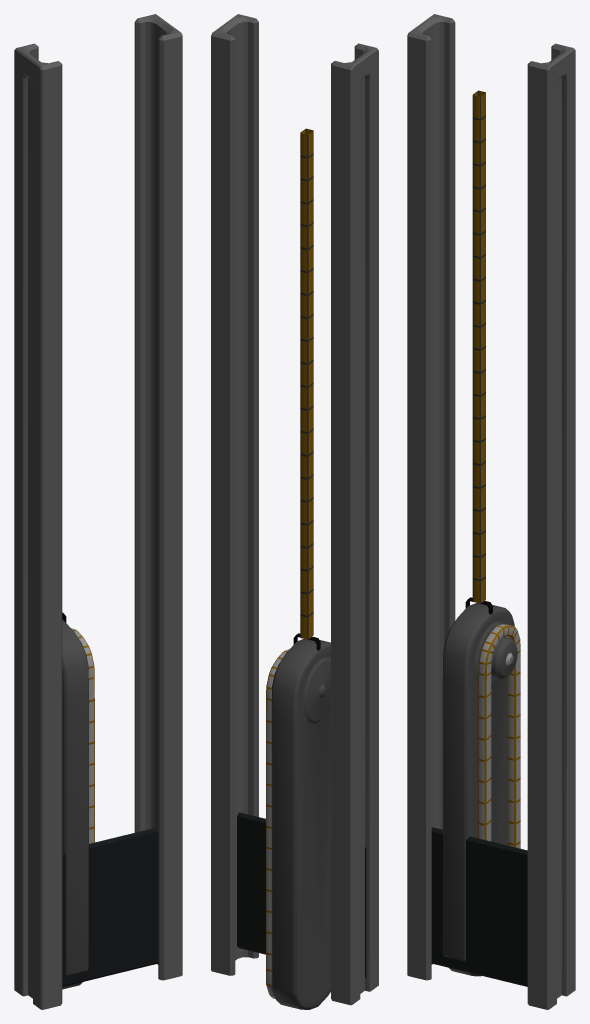
The model's file is mast_2.glb.
3 views of the same model, side by side, from view 1: azimuth 30°, elevation 25°; view 2: azimuth 150°, elevation 25°; view 3: azimuth 330°, elevation 25° (orthographic).
Parts seen in each view (by area): view 1: CHAINSYSTEM_2, LIFTINGMECHANISM.002; view 2: CHAINSYSTEM_2, LIFTINGMECHANISM.002; view 3: CHAINSYSTEM_2, LIFTINGMECHANISM.002.
Part boxes in pixels (x1,y1,x2,y2): CHAINSYSTEM_2: [14, 14, 182, 1009]; LIFTINGMECHANISM.002: [62, 612, 94, 989]; CHAINSYSTEM_2: [211, 14, 378, 1005]; LIFTINGMECHANISM.002: [266, 128, 330, 1009]; CHAINSYSTEM_2: [407, 14, 575, 1009]; LIFTINGMECHANISM.002: [442, 90, 520, 976].
Bounding box in the file's own units: 0.4115 × 2.63 × 0.2773.
1 material, 1 textured.
